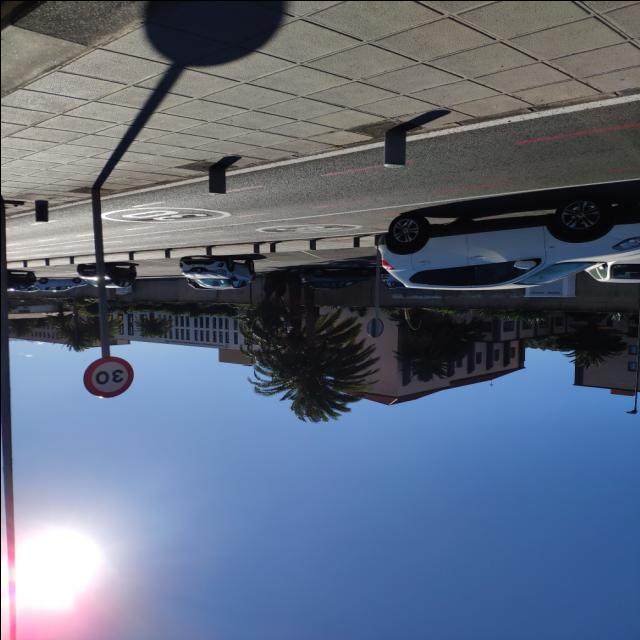Palm-Trees: (258, 273, 370, 421), (56, 309, 94, 351), (137, 311, 170, 336)
